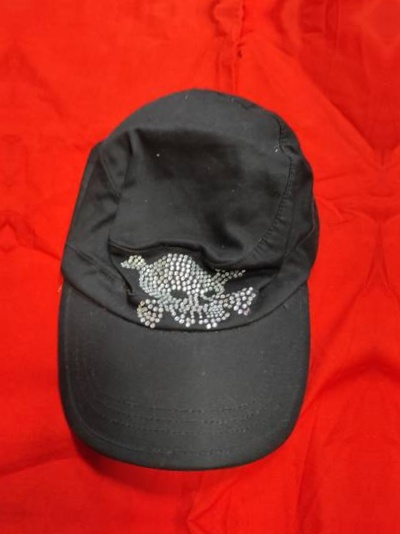Hat: (20, 48, 346, 488)
